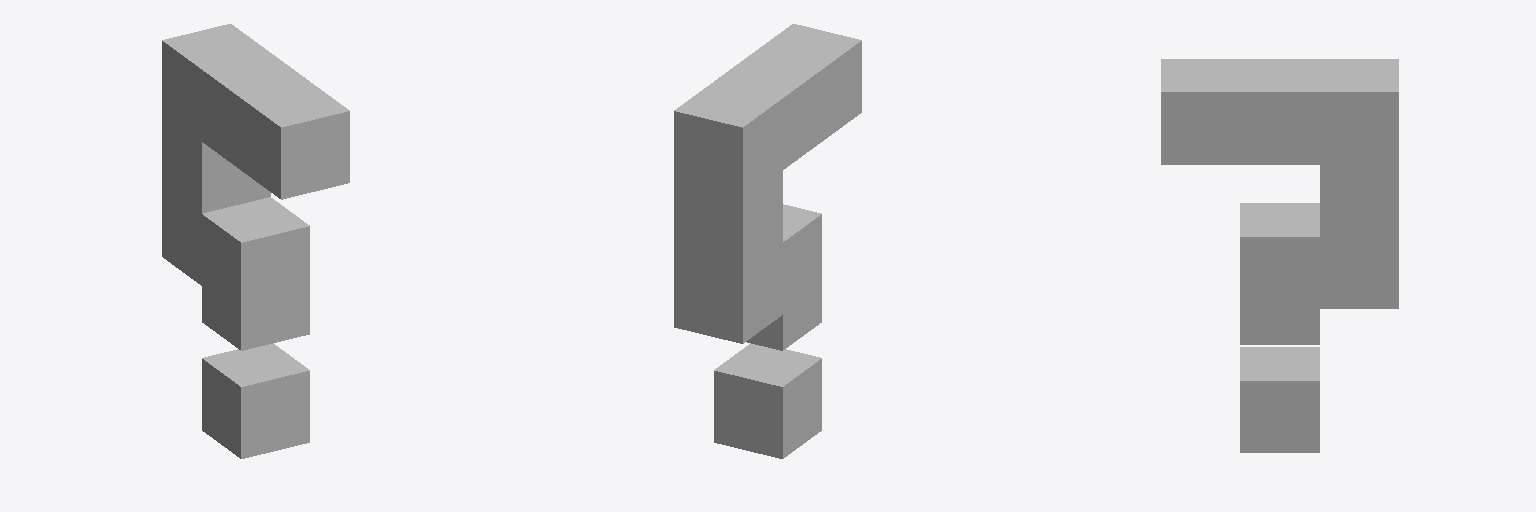
The model's file is character_interrogation.obj.
3 views of the same model, side by side, from view 1: azimuth 30°, elevation 25°; view 2: azimuth 150°, elevation 25°; view 3: azimuth 270°, elevation 25° (orthographic).
Visible parts, largest first — view 1: Cube.001; view 2: Cube.001; view 3: Cube.001.
Boxes of the visible parts, x1,y1,x2,y2 form: Cube.001: [162, 24, 349, 458]; Cube.001: [674, 24, 861, 458]; Cube.001: [1161, 59, 1398, 452].
Size of the model in its own units: 6 by 30 by 18.